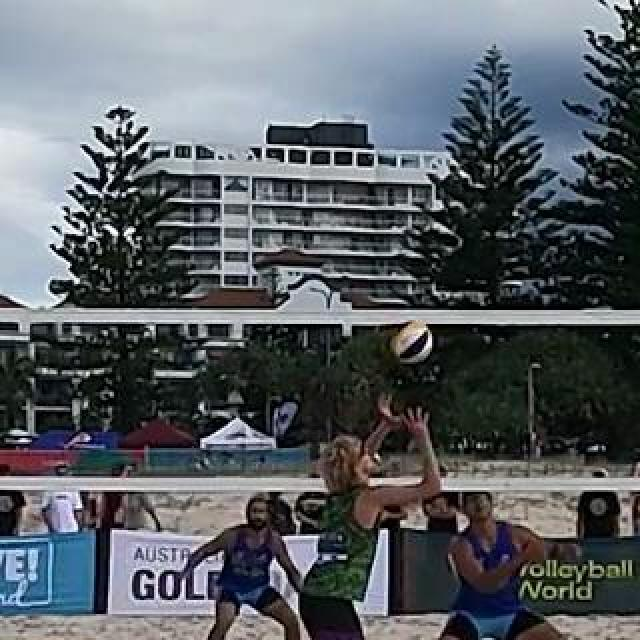volleyball: (393, 323, 433, 365)
